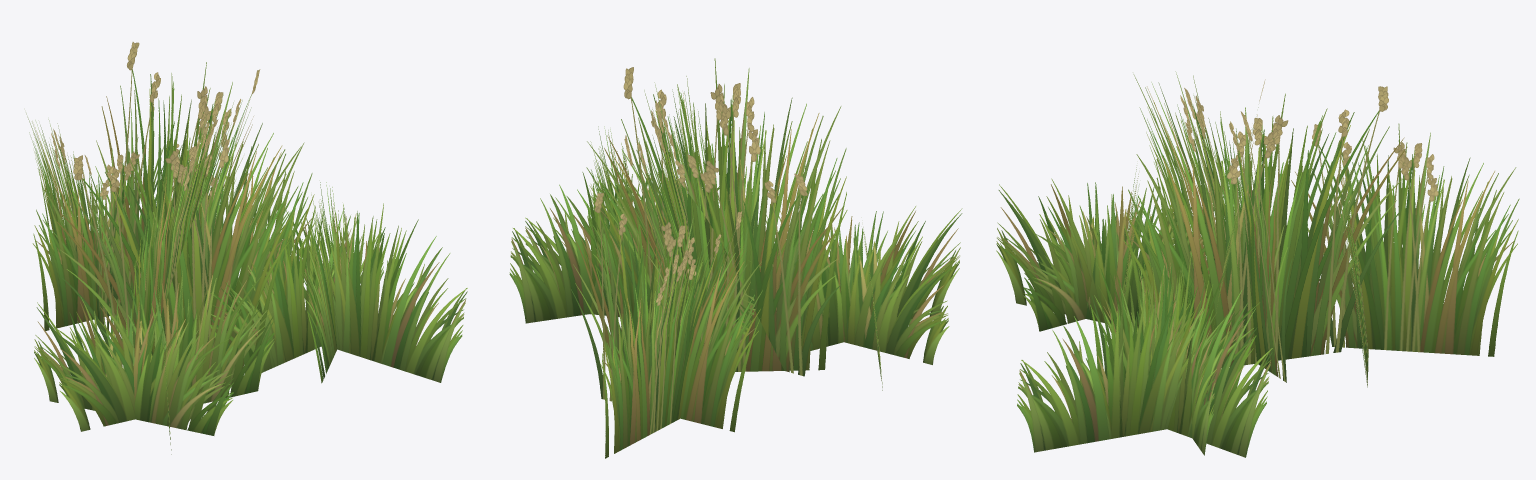
The model's file is Grass_B.fbx.
3 renders of one model, left to right at view 1: azimuth 30°, elevation 25°; view 2: azimuth 150°, elevation 25°; view 3: azimuth 270°, elevation 25°, orthographic. The views are drawn at different scales.
Parts seen in each view (by area): view 1: Grass_B; view 2: Grass_B; view 3: Grass_B.
Boxes of the visible parts, <box> form: Grass_B: <box>26,42,467,454</box>; Grass_B: <box>509,58,962,458</box>; Grass_B: <box>996,71,1519,457</box>.
Size of the model in its own units: 0.9988 by 0.7252 by 1.11.
1 material, 1 textured.
